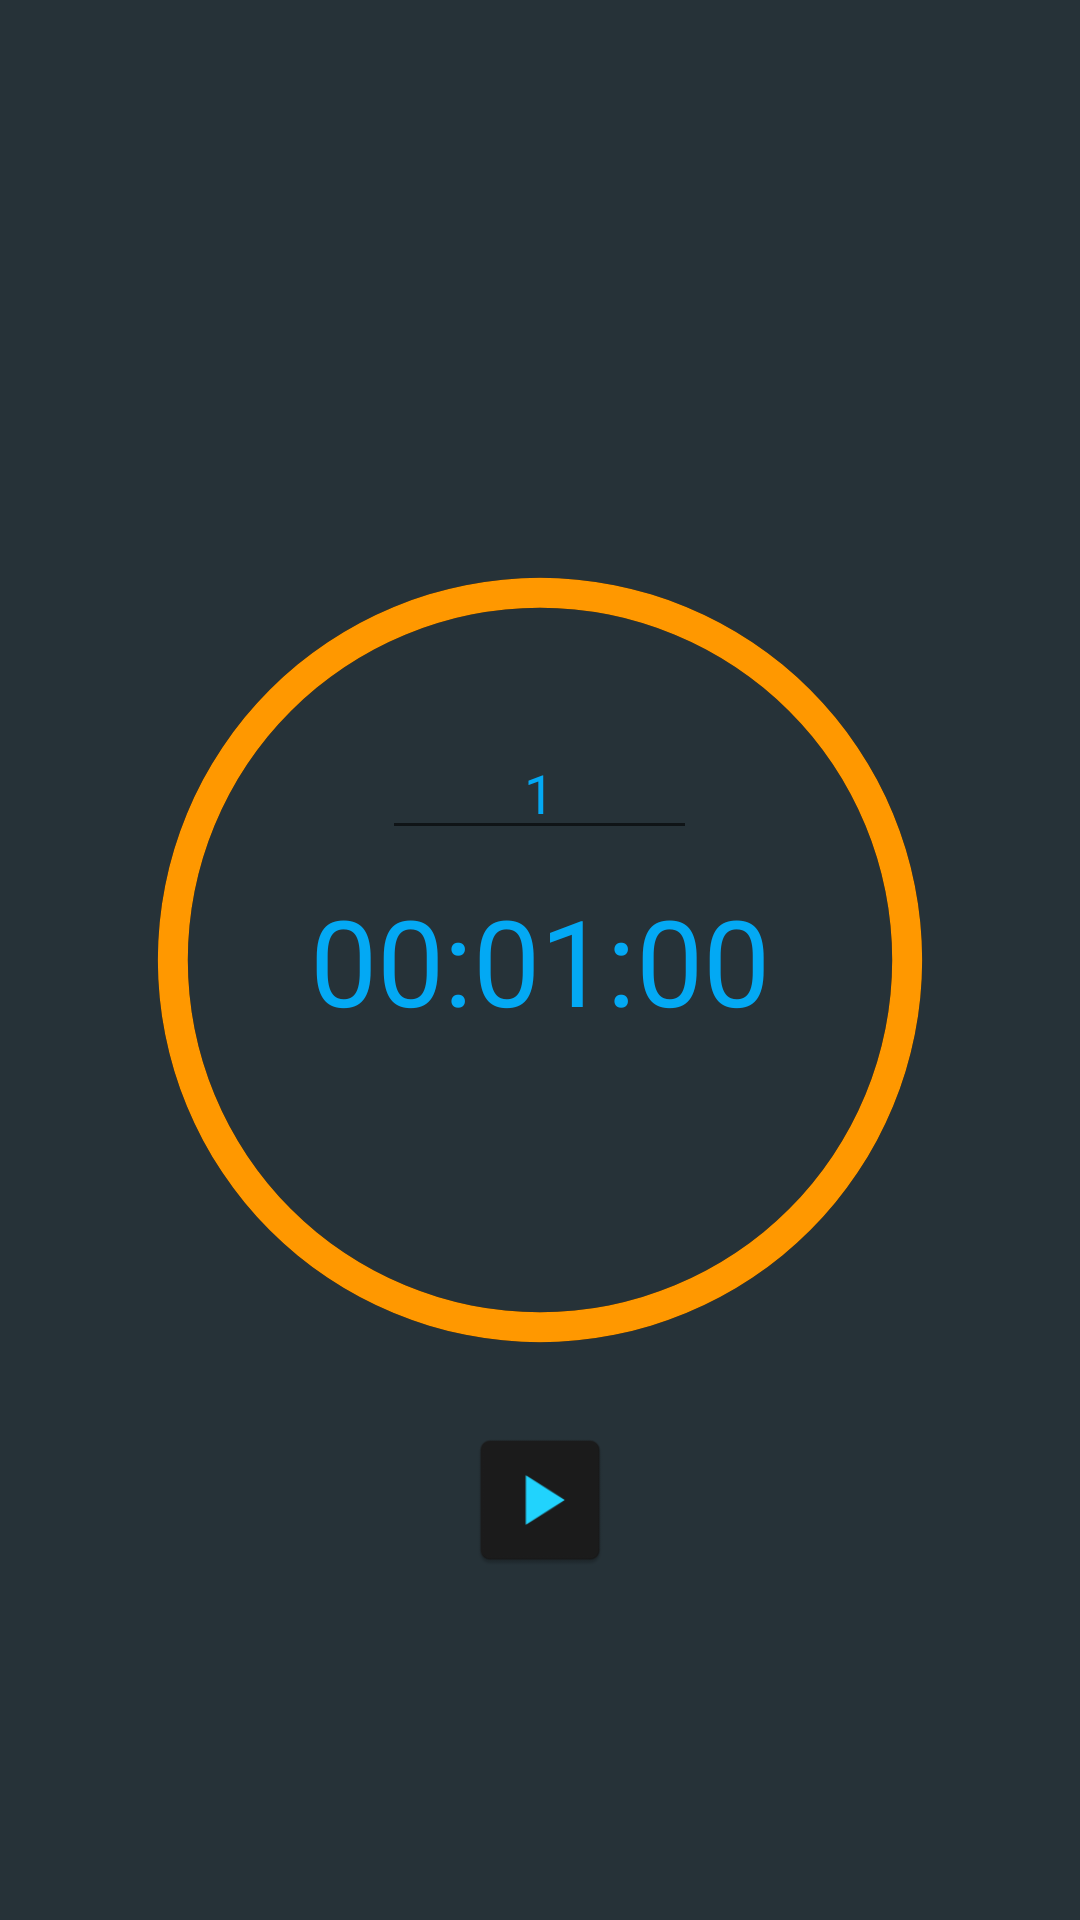

Screen size 1080*1920. Icon name, then its box in pixels as {"left": x1, "top": y1, "right": x2, "bottom": y2}:
start: {"left": 481, "top": 1441, "right": 599, "bottom": 1559}
